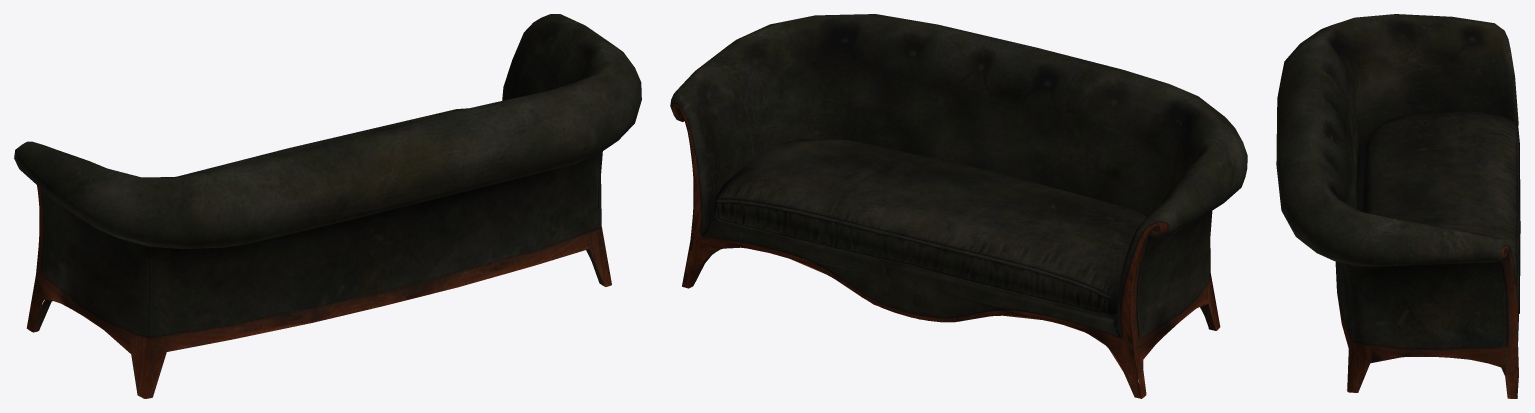
3 views of the same model, side by side, from view 1: azimuth 30°, elevation 25°; view 2: azimuth 150°, elevation 25°; view 3: azimuth 270°, elevation 25° (orthographic). The views are drawn at different scales.
Visible parts, largest first — view 1: sofa_02_Base.001; view 2: sofa_02_Base.001; view 3: sofa_02_Base.001.
Part boxes in pixels (x1,y1,x2,y2): sofa_02_Base.001: [14, 14, 641, 398]; sofa_02_Base.001: [670, 14, 1247, 398]; sofa_02_Base.001: [1276, 14, 1520, 398].
Size of the model in its own units: 1.81 by 0.7097 by 0.8168.
Materials: 1 (1 with a texture image).
